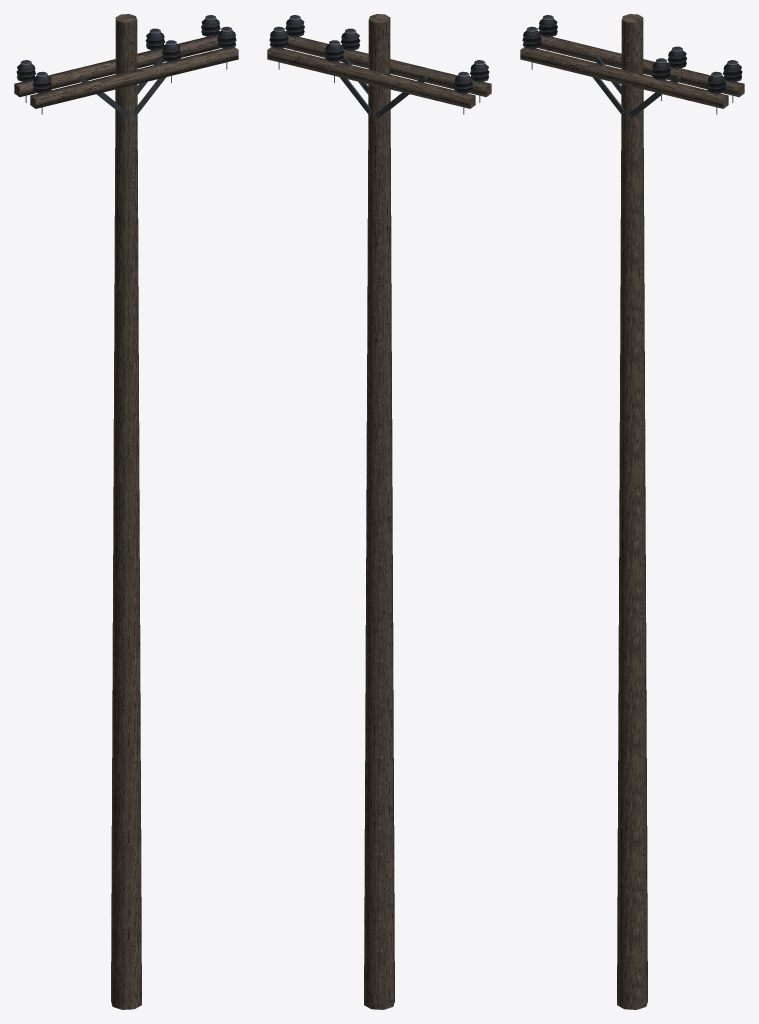
File: pole_wood_d_lod_0.glb
The picture shows the model from 3 angles, left to right: view 1: azimuth 30°, elevation 25°; view 2: azimuth 150°, elevation 25°; view 3: azimuth 330°, elevation 25°; orthographic projection.
Visible parts, largest first — view 1: pole_wood_d_lod_0; view 2: pole_wood_d_lod_0; view 3: pole_wood_d_lod_0.
Part boxes in pixels (x1,y1,x2,y2): pole_wood_d_lod_0: (14, 14, 238, 1009); pole_wood_d_lod_0: (267, 14, 491, 1009); pole_wood_d_lod_0: (520, 14, 744, 1009).
Bounding box in the file's own units: 2.2 × 10.2 × 0.4912.
2 materials, 2 textured.
